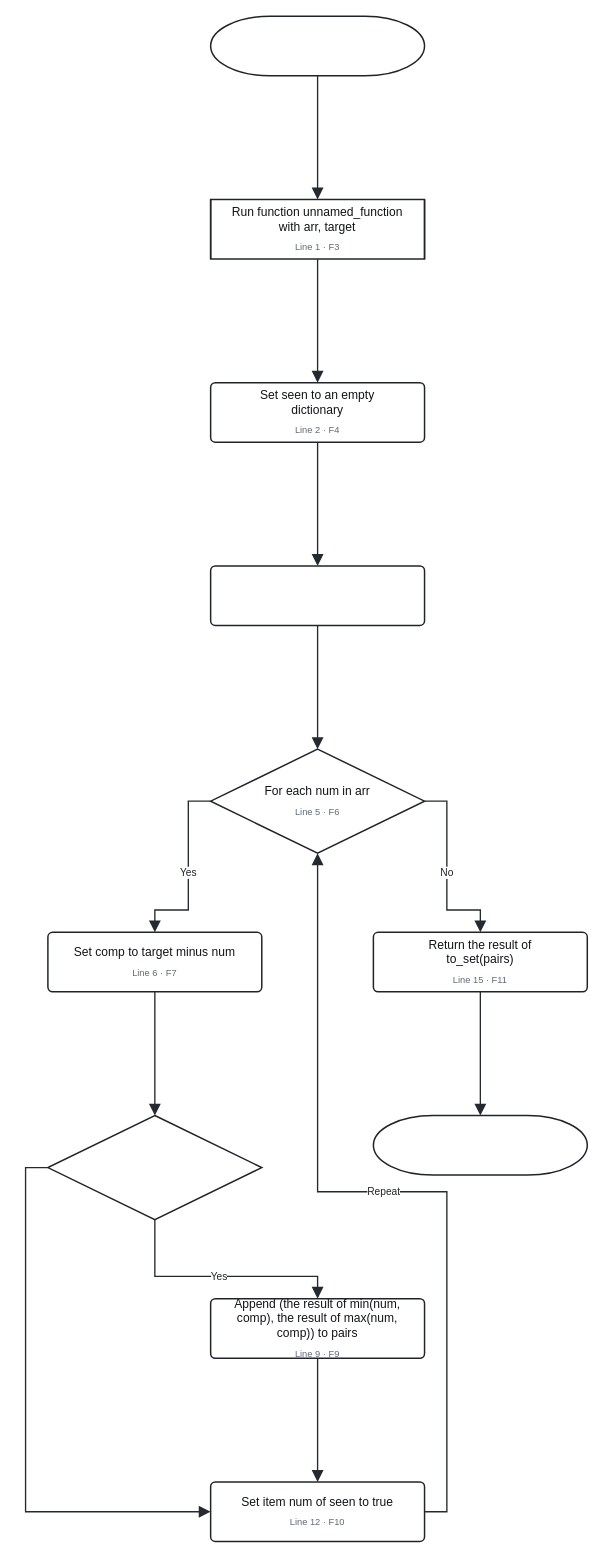
Some shapes in this 605 by 1559 pixel diagram are drawn without their labels. The box of each missing label's shape, as (x1, y1, x2, y2) in pixels:
Comp is contained in seen? Line 8 · F8: (47, 1114, 262, 1220)
End Line 1 · F2: (372, 1114, 588, 1175)
Set pairs to an empty list Line 3 · F5: (209, 565, 425, 626)
Start Line 1 · F1: (209, 15, 425, 76)
